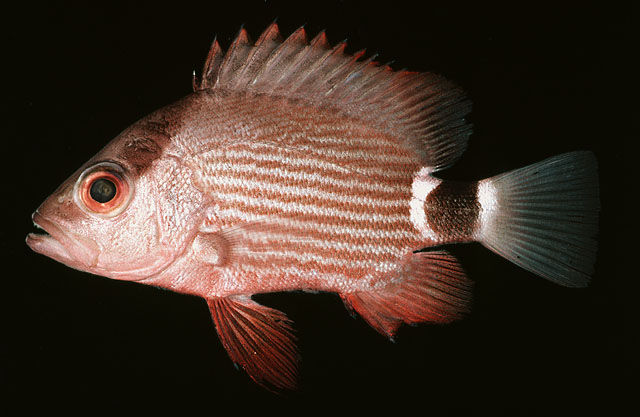fish: (24, 20, 596, 390)
